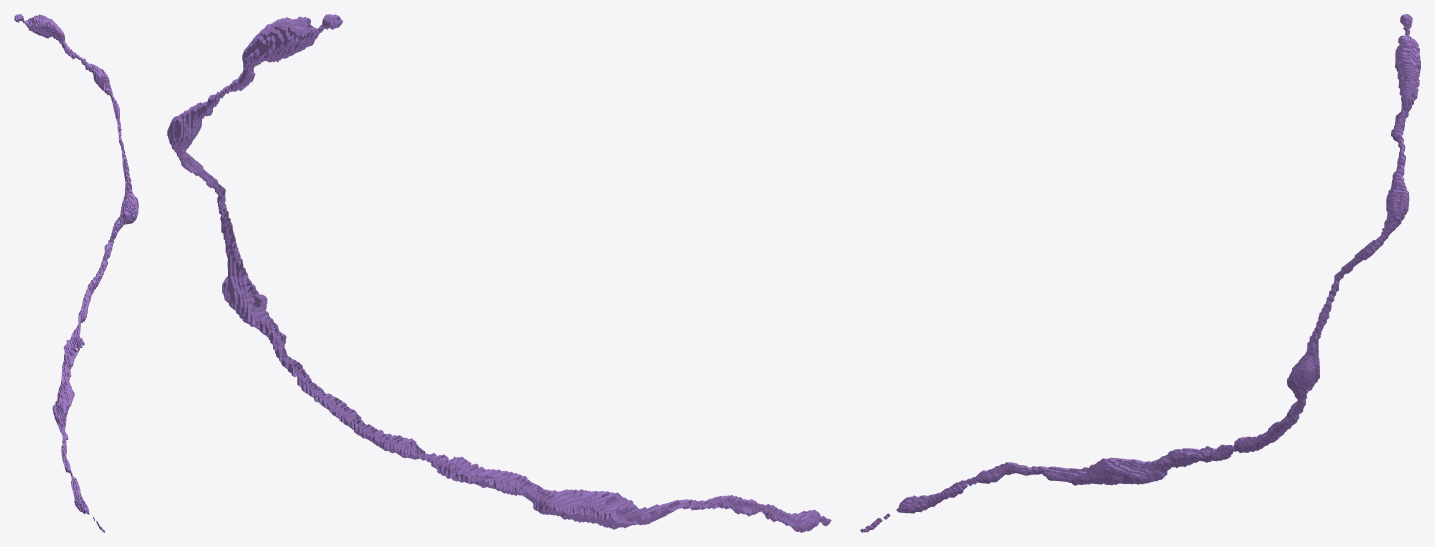
File: SVV_AFDR.gltf
3 renders of one model, left to right at view 1: azimuth 30°, elevation 25°; view 2: azimuth 150°, elevation 25°; view 3: azimuth 270°, elevation 25°, orthographic. The views are drawn at different scales.
Parts seen in each view (by area): view 1: AFDR; view 2: AFDR; view 3: AFDR.
Boxes of the visible parts, x1,y1,x2,y2 form: AFDR: [14, 14, 138, 532]; AFDR: [167, 14, 831, 532]; AFDR: [860, 14, 1420, 532].
Size of the model in its own units: 92402 by 176114 by 153486.
